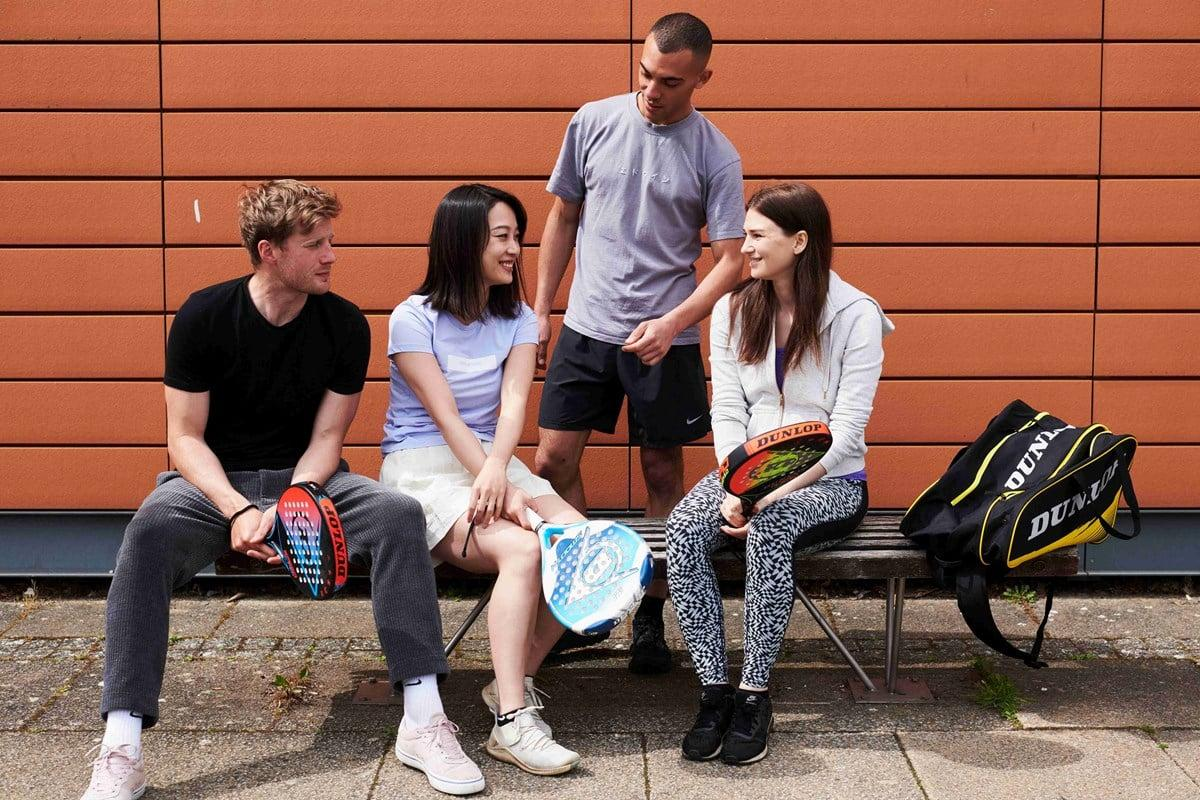Shorts: (535, 317, 713, 445)
jacket: (708, 262, 898, 482)
short sleeve shirt: (544, 91, 746, 351), (163, 272, 373, 474), (378, 288, 544, 454)
skirt: (377, 436, 556, 566)
trousers: (94, 469, 447, 726), (661, 463, 872, 689)
